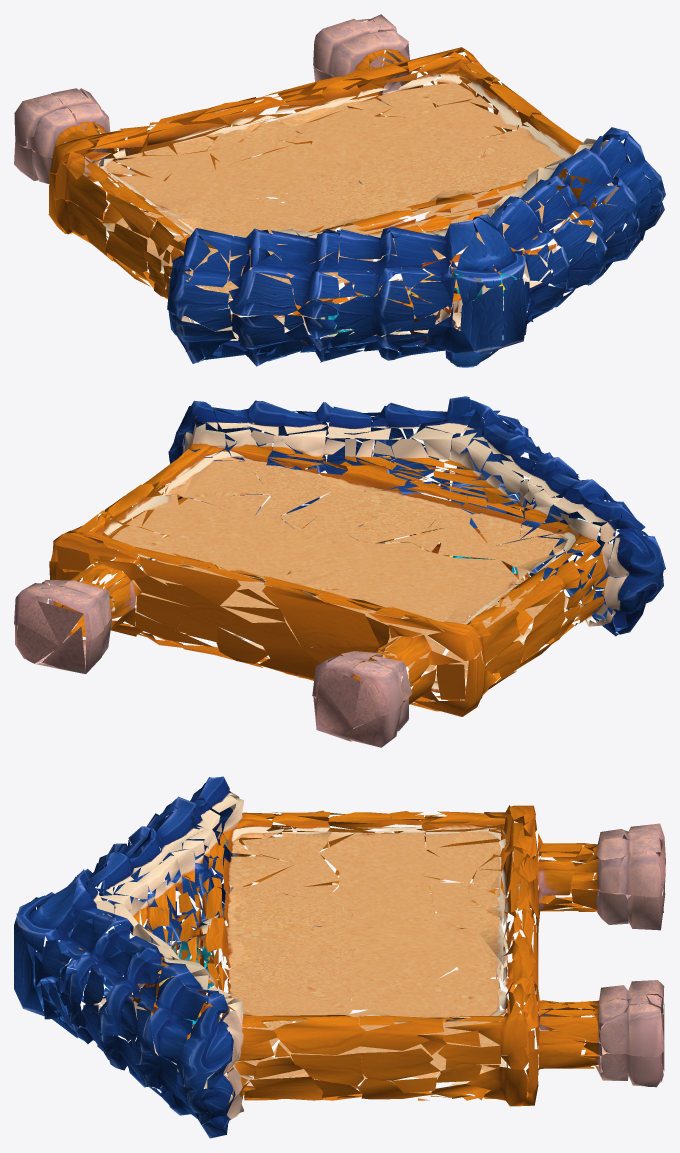
Rendered from cozy_bulletin_board_v1.glb.
3 renders of one model, top to bottom at view 1: azimuth 30°, elevation 25°; view 2: azimuth 150°, elevation 25°; view 3: azimuth 270°, elevation 25°, orthographic. The views are drawn at different scales.
Visible parts, largest first — view 1: Mesh_0; view 2: Mesh_0; view 3: Mesh_0.
Boxes of the visible parts, box(x1,y1,x2,y2) form: Mesh_0: box(14, 14, 665, 367); Mesh_0: box(14, 396, 665, 747); Mesh_0: box(14, 776, 665, 1138).
Bounding box in the file's own units: 1.78 × 0.5314 × 1.91.
1 material, 1 textured.
